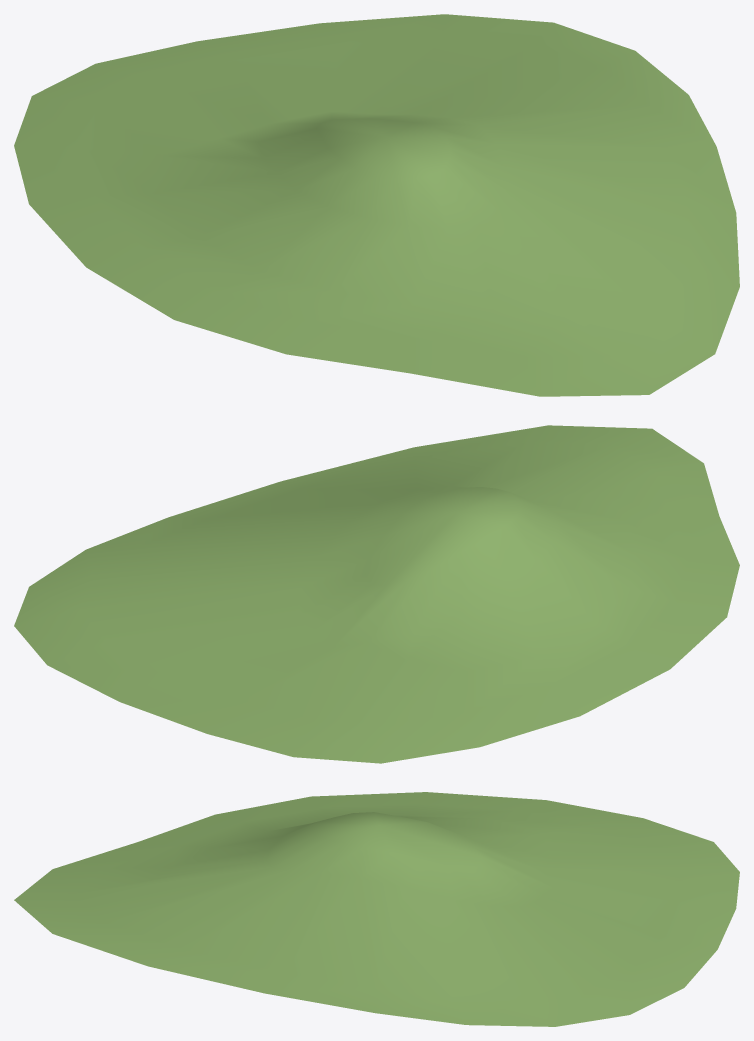
File: hill_medium.fbx
3 renders of one model, top to bottom at view 1: azimuth 30°, elevation 25°; view 2: azimuth 150°, elevation 25°; view 3: azimuth 270°, elevation 25°, orthographic. The views are drawn at different scales.
Parts seen in each view (by area): view 1: pSphere1; view 2: pSphere1; view 3: pSphere1.
Part boxes in pixels (x1,y1,x2,y2): pSphere1: (14,14,739,396); pSphere1: (14,425,739,763); pSphere1: (14,792,739,1026).
Size of the model in its own units: 12.57 by 1.65 by 16.41.
